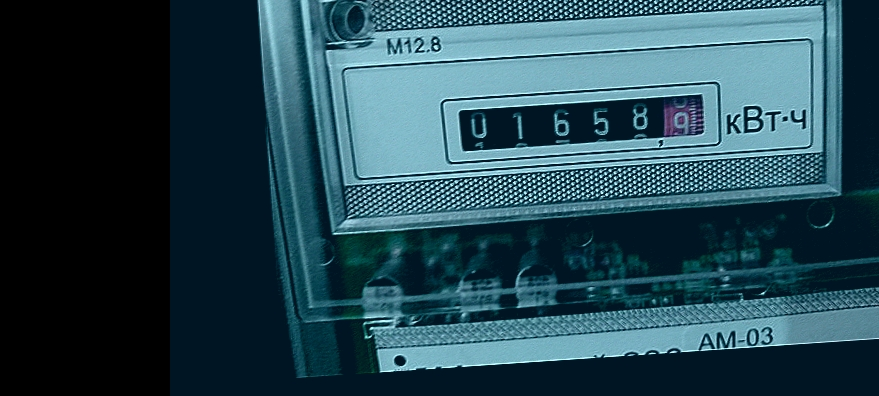0: (467, 107, 490, 140)
1: (511, 108, 526, 140)
5: (591, 104, 612, 137)
6: (551, 105, 573, 138)
8: (630, 99, 651, 132)
9: (671, 108, 690, 136)
screen: (433, 71, 728, 169)
